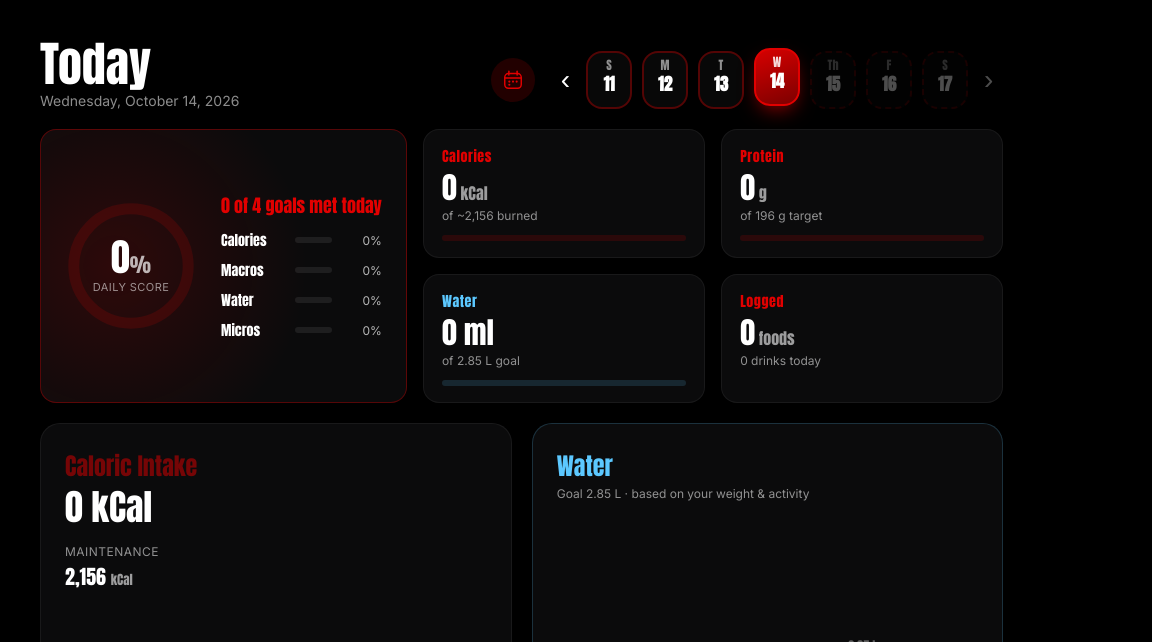
Test: diet page days › jumps to a day from the month calendar, which marks the logged days
Check: the heading "Today" is shown, box left=40, top=28, right=151, bottom=100
Click the button named "Open month calendar" at (513, 80), box left=491, top=58, right=535, bottom=102
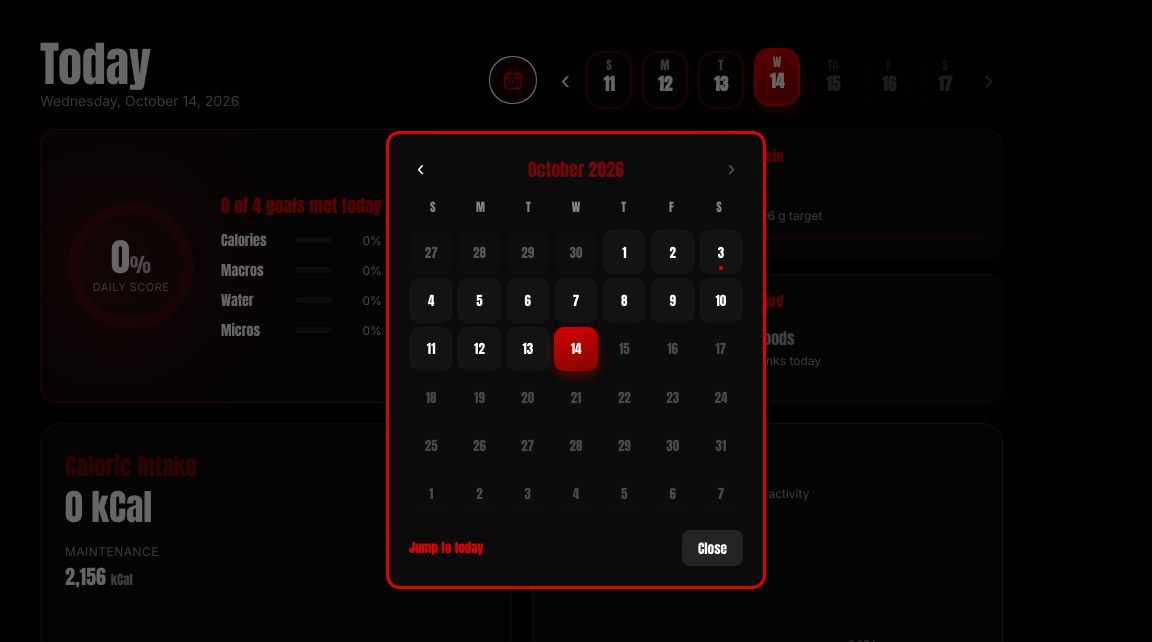
Check: the text "October 2026" is shown, box left=528, top=156, right=624, bottom=183
Check: the button named "Next month" is disabled, box left=720, top=154, right=743, bottom=184
Click the button named "Previous month" at (421, 169), box left=409, top=154, right=432, bottom=184
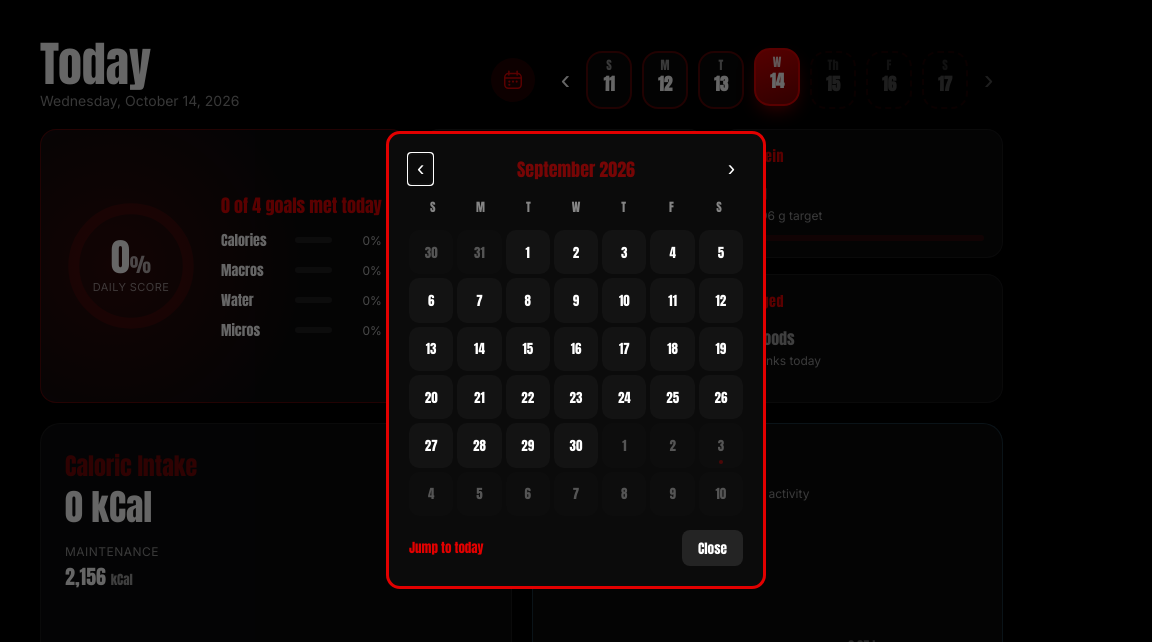
Check: the text "September 2026" is shown, box left=517, top=156, right=635, bottom=183
Click the button named "Next month" at (731, 169), box left=720, top=154, right=743, bottom=184
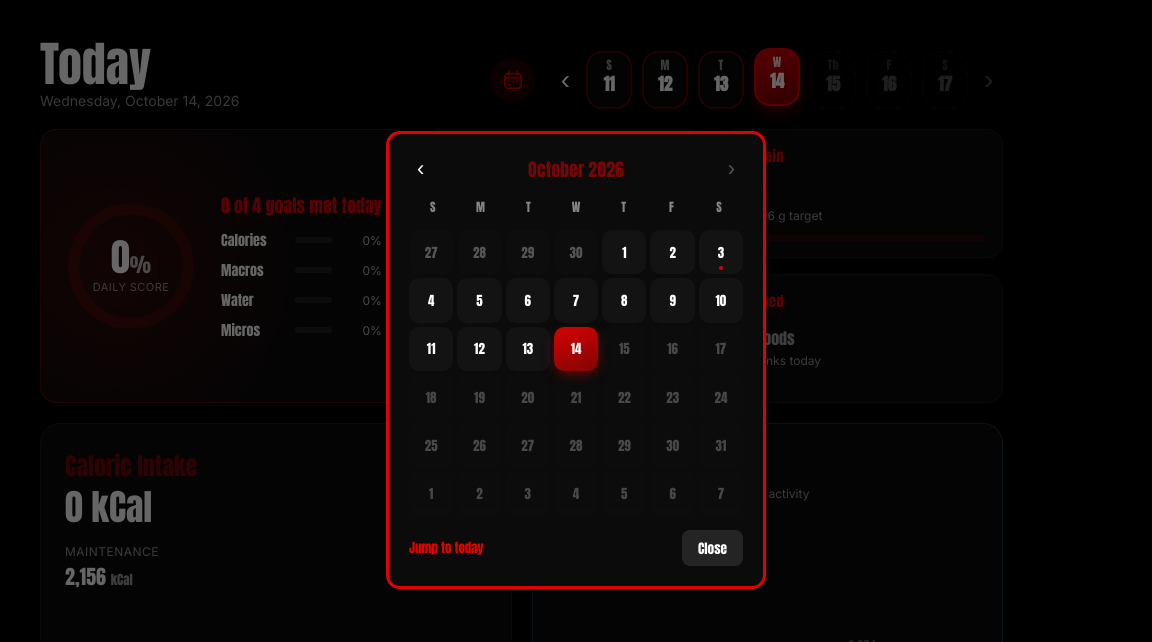
Check: the 2nd button "3" is disabled, box left=506, top=472, right=550, bottom=516
Check: the text "October 2026" is shown, box left=528, top=156, right=624, bottom=183
Click the 1st button "3" at (721, 252), box left=699, top=230, right=743, bottom=274
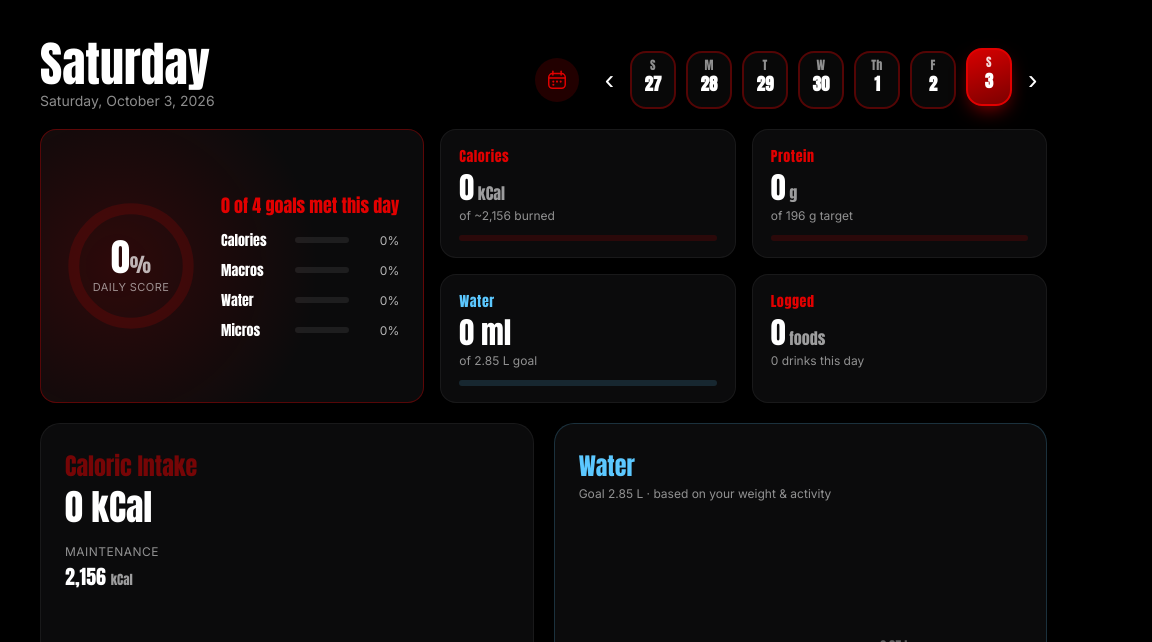
Check: the text "October 2026" is gone
Check: the text "Saturday, October 3, 2026" is shown, box left=40, top=92, right=215, bottom=109
Click the button named "Open month calendar" at (557, 80), box left=535, top=58, right=579, bottom=102
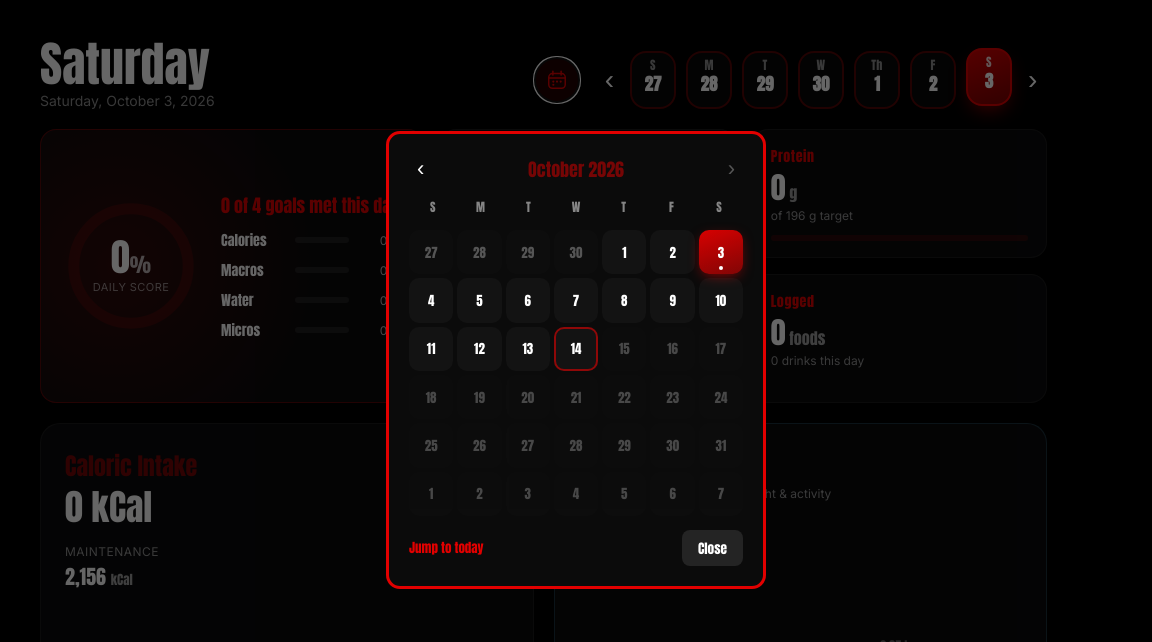
Click the button "Jump to today" at (446, 548), box left=409, top=538, right=484, bottom=557
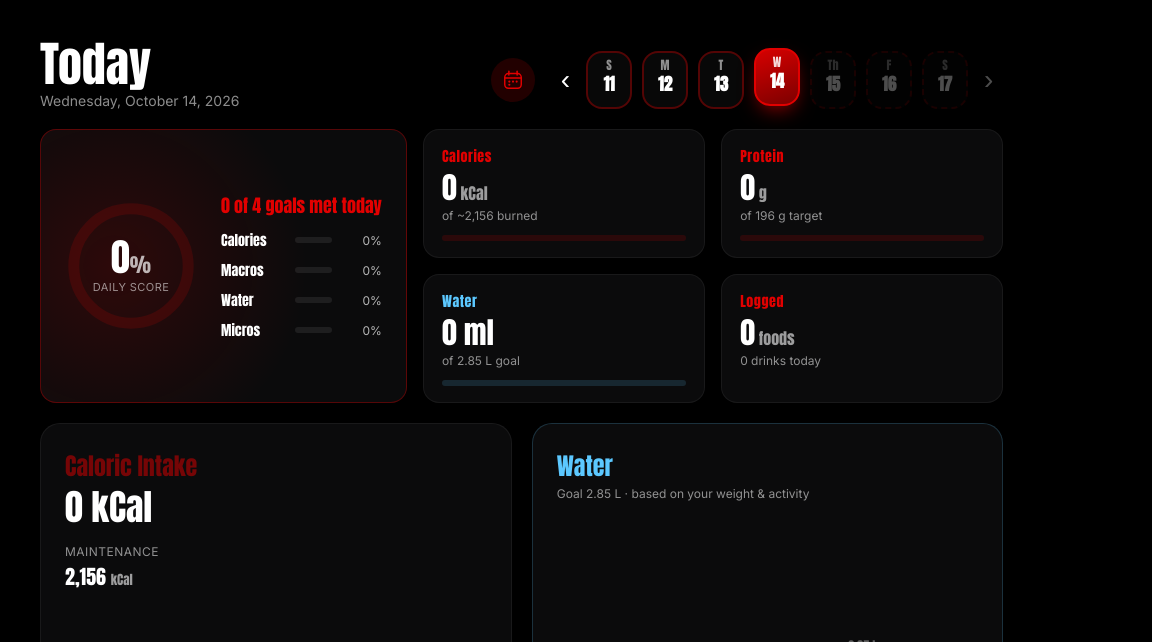
Check: the heading "Today" is shown, box left=40, top=28, right=151, bottom=100
